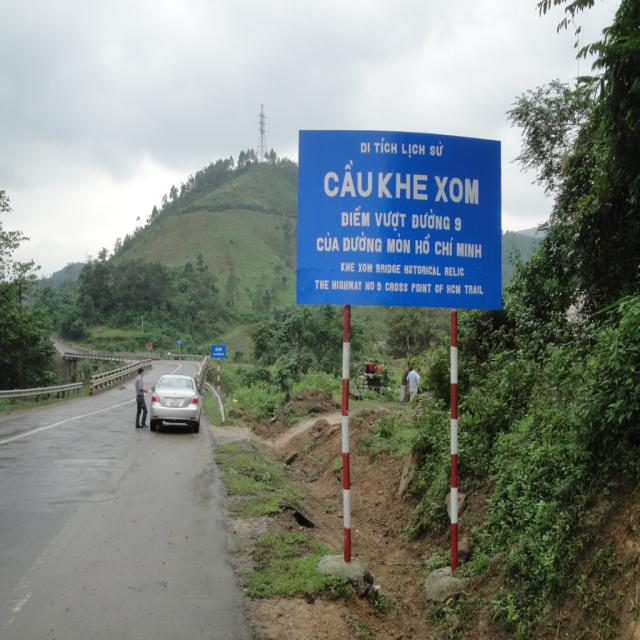car: (153, 374, 207, 437)
